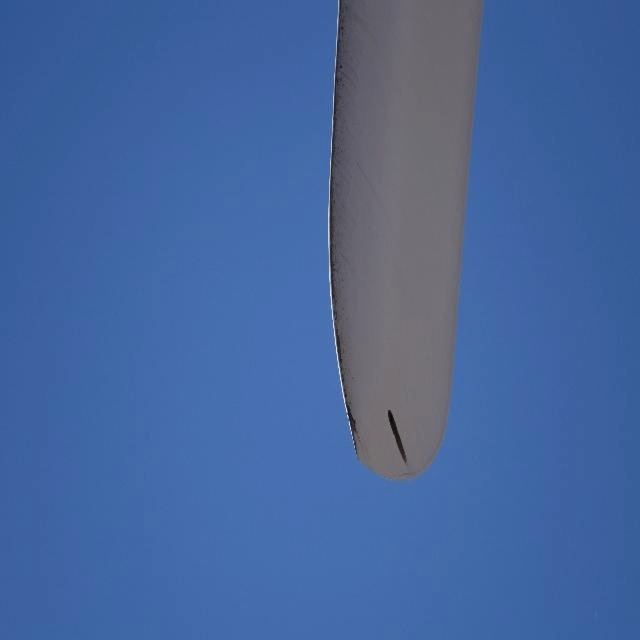Burn Mark: (386, 407, 409, 469)
EROSION: (323, 5, 356, 451)
